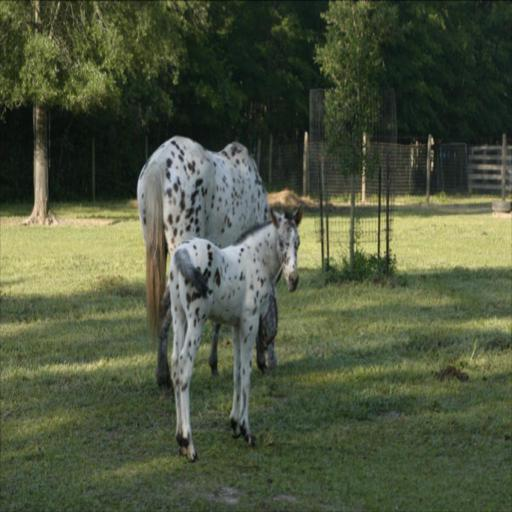horse: (134, 133, 277, 390), (170, 202, 304, 460)
